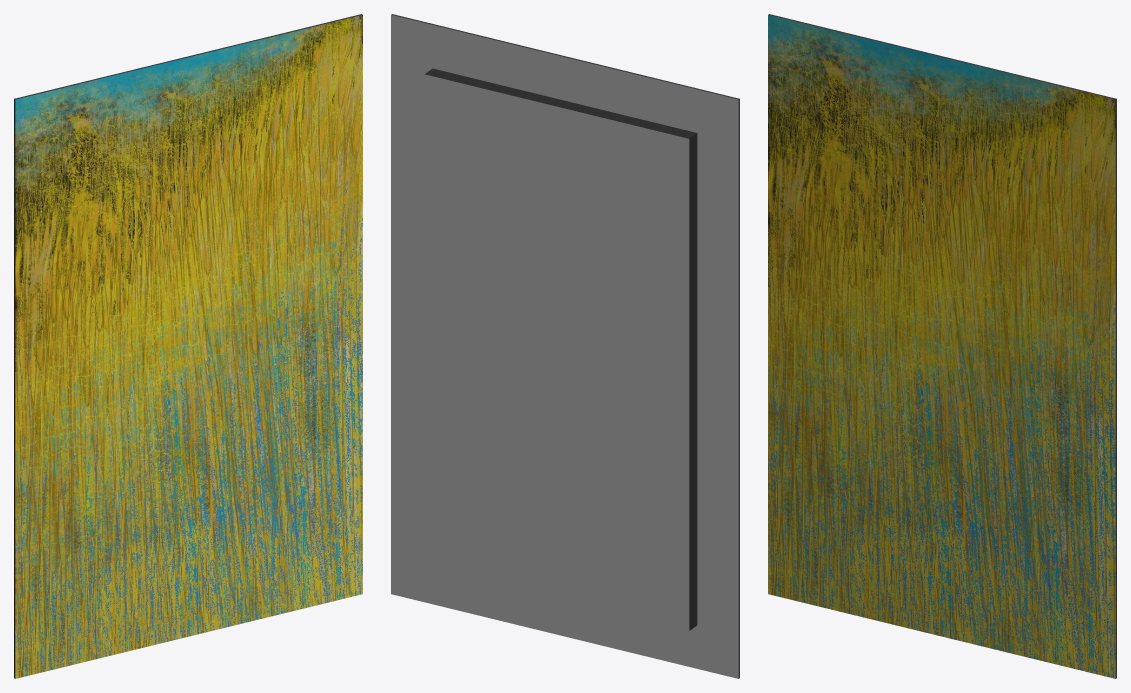
Rendered from os008_moyen_dibond.glb.
The picture shows the model from 3 angles, left to right: view 1: azimuth 30°, elevation 25°; view 2: azimuth 150°, elevation 25°; view 3: azimuth 330°, elevation 25°; orthographic projection.
Parts seen in each view (by area): view 1: os008_moyen_dibond; view 2: os008_moyen_dibond; view 3: os008_moyen_dibond.
Boxes of the visible parts, x1,y1,x2,y2 form: os008_moyen_dibond: [14, 14, 362, 678]; os008_moyen_dibond: [391, 14, 739, 678]; os008_moyen_dibond: [768, 14, 1116, 678].
Bounding box in the file's own units: 0.5024 × 0.8 × 0.023.
Materials: 4 (1 with a texture image).
